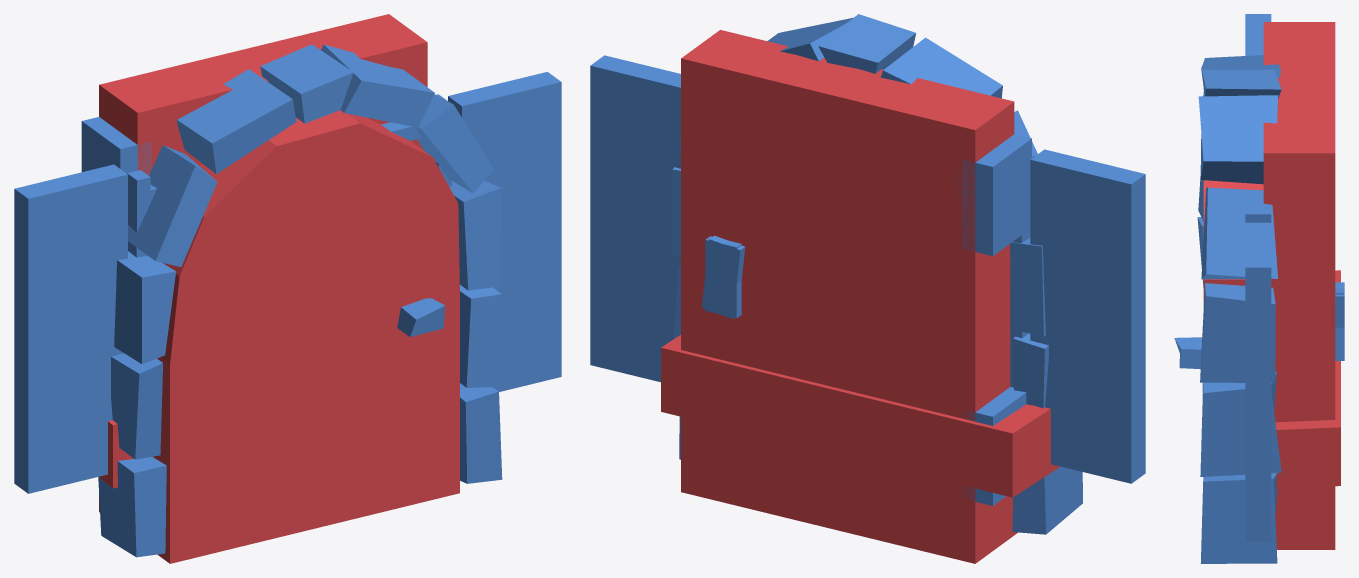
Rendered from Outdoor Environment - Doors&Windows.fbx.
The picture shows the model from 3 angles, left to right: view 1: azimuth 30°, elevation 25°; view 2: azimuth 150°, elevation 25°; view 3: azimuth 270°, elevation 25°; orthographic projection. The views are drawn at different scales.
Parts seen in each view (by area): view 1: Arch, Basic Window, Basic Door, Shit Door, Shit Window; view 2: Basic Door, Basic Window, Shit Window, Shit Door, Arch; view 3: Arch, Basic Door, Basic Window, Shit Door, Shit Window.
Boxes of the visible parts, x1,y1,x2,y2 form: Arch: [98, 44, 502, 563]; Basic Window: [14, 72, 561, 493]; Basic Door: [81, 14, 427, 512]; Shit Door: [107, 55, 427, 175]; Shit Window: [99, 420, 152, 488]; Basic Door: [681, 30, 1031, 563]; Basic Window: [590, 55, 1145, 483]; Shit Window: [661, 137, 1060, 497]; Shit Door: [681, 73, 1022, 545]; Arch: [671, 14, 1082, 539]; Arch: [1174, 55, 1281, 563]; Basic Door: [1263, 22, 1344, 549]; Basic Window: [1245, 14, 1335, 541]; Shit Door: [1263, 164, 1344, 421]; Shit Window: [1271, 224, 1340, 488].
Size of the model in its own units: 308 by 247 by 91.63.
